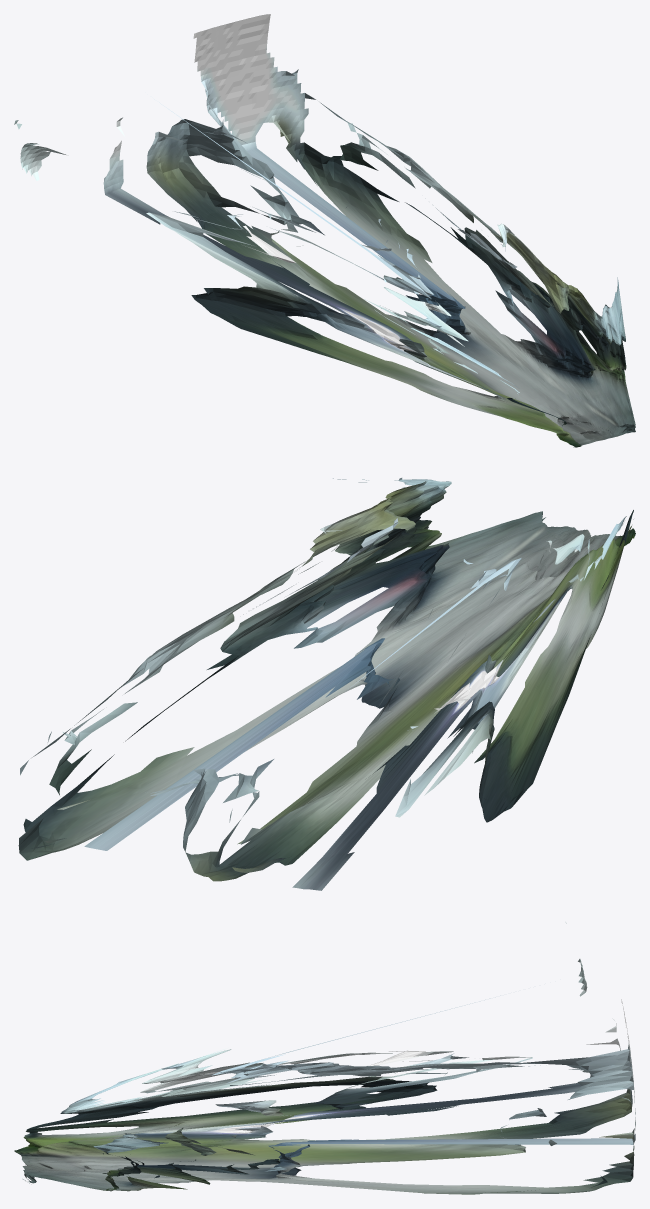
3 renders of one model, top to bottom at view 1: azimuth 30°, elevation 25°; view 2: azimuth 150°, elevation 25°; view 3: azimuth 270°, elevation 25°, orthographic. The views are drawn at different scales.
Parts seen in each view (by area): view 1: defaultobject; view 2: defaultobject; view 3: defaultobject.
Part boxes in pixels (x1=…): defaultobject: x1=14, y1=14, x2=635, y2=447; defaultobject: x1=18, y1=478, x2=635, y2=890; defaultobject: x1=14, y1=922, x2=635, y2=1194.
Bounding box in the file's own units: 26.8 × 12.15 × 45.07.
1 material, 1 textured.
